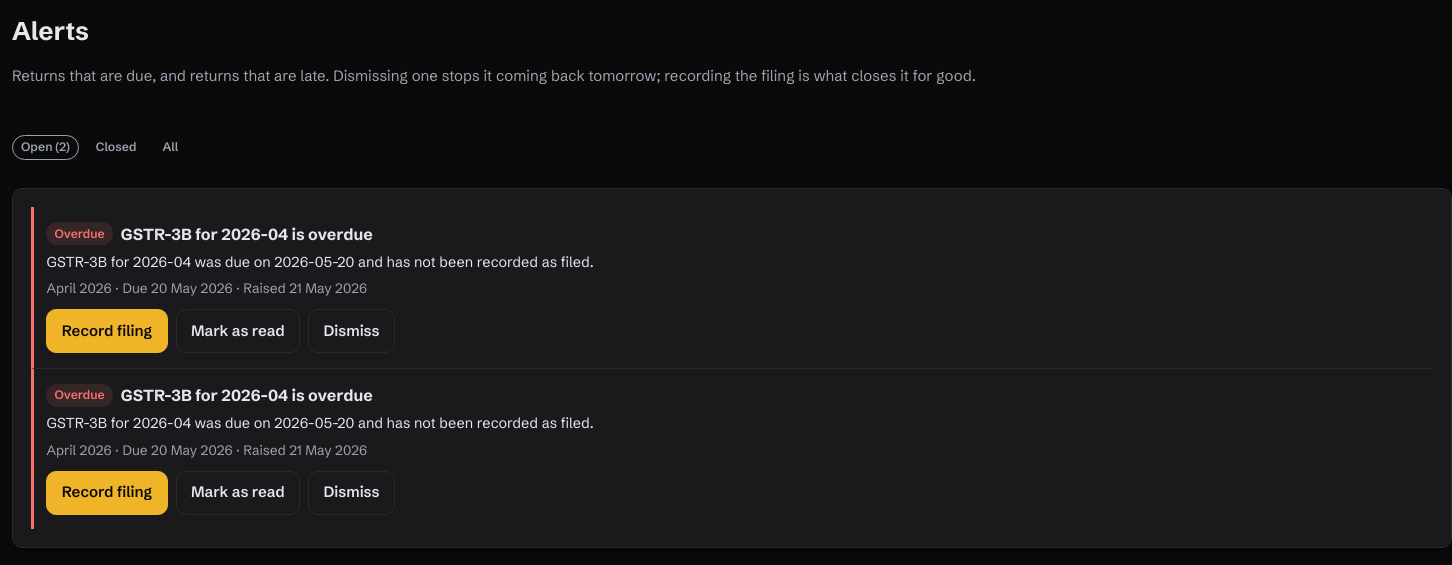
it: AlertsPage › only disables the row being acted on
Click the 1st button "Dismiss".
click(352, 331)  # box left=308, top=309, right=395, bottom=353
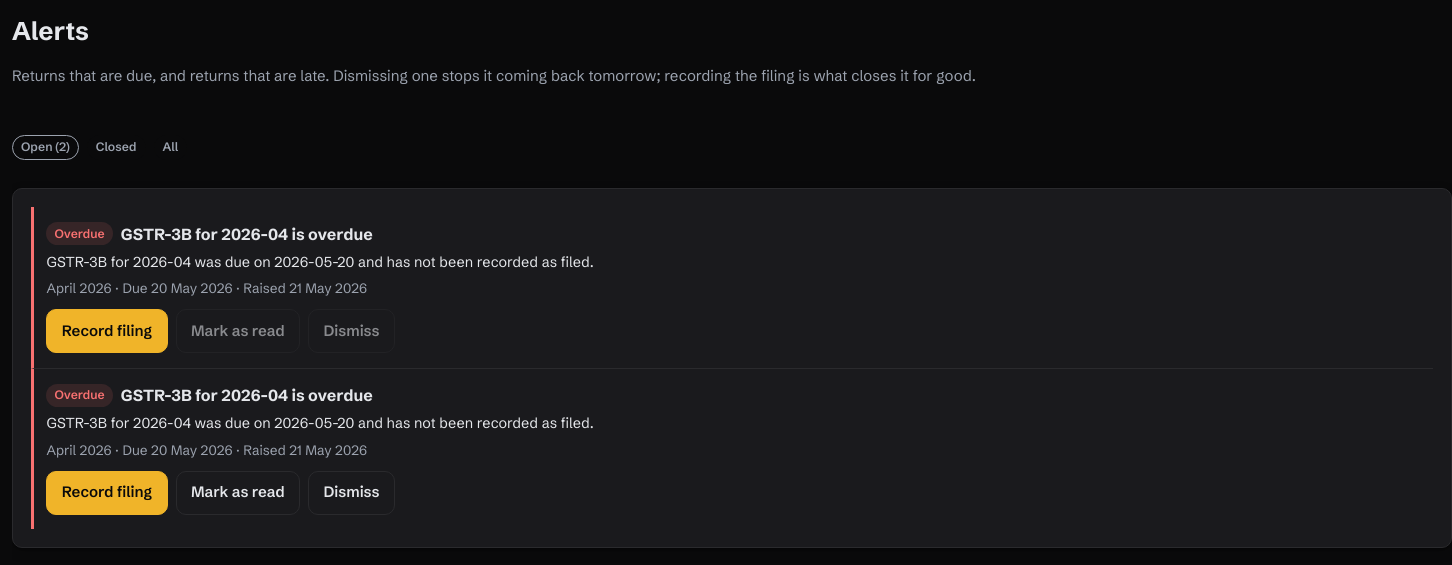
Expected: the 2nd button "Dismiss" is enabled, left=308, top=471, right=395, bottom=515
Expected: the 1st button "Dismiss" is disabled, left=308, top=309, right=395, bottom=353
